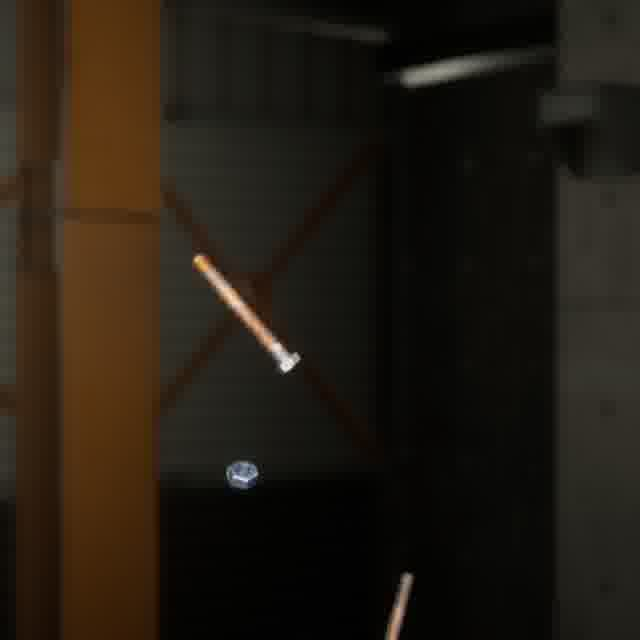bolt: (187, 248, 305, 379), (380, 567, 418, 640)
nut: (222, 455, 262, 493)
